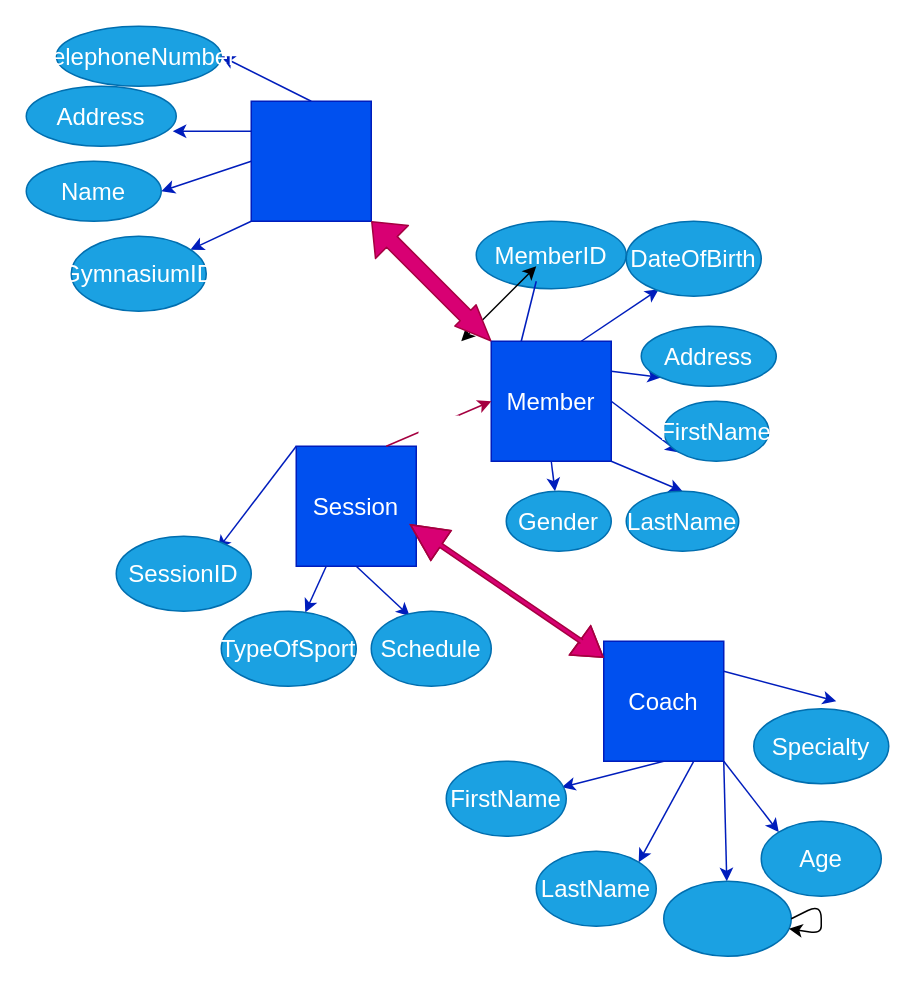
Some shapes in this 915 by 983 pixel diagram are drawn without their labels. The centre of each missing label's shape, as x and y in pixels:
CoachID: point (726, 918)
Gymnasium: point (310, 160)
